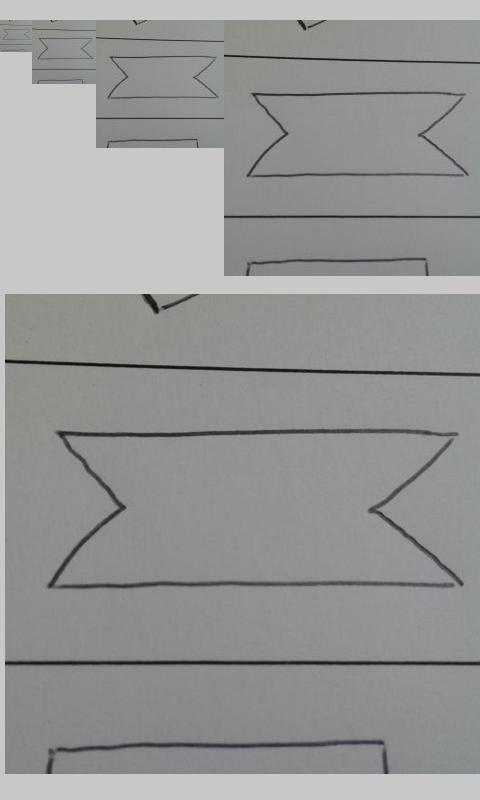edit_text: (47, 424, 459, 595), (246, 91, 469, 180), (107, 55, 218, 100), (37, 37, 93, 60), (2, 28, 30, 41)
